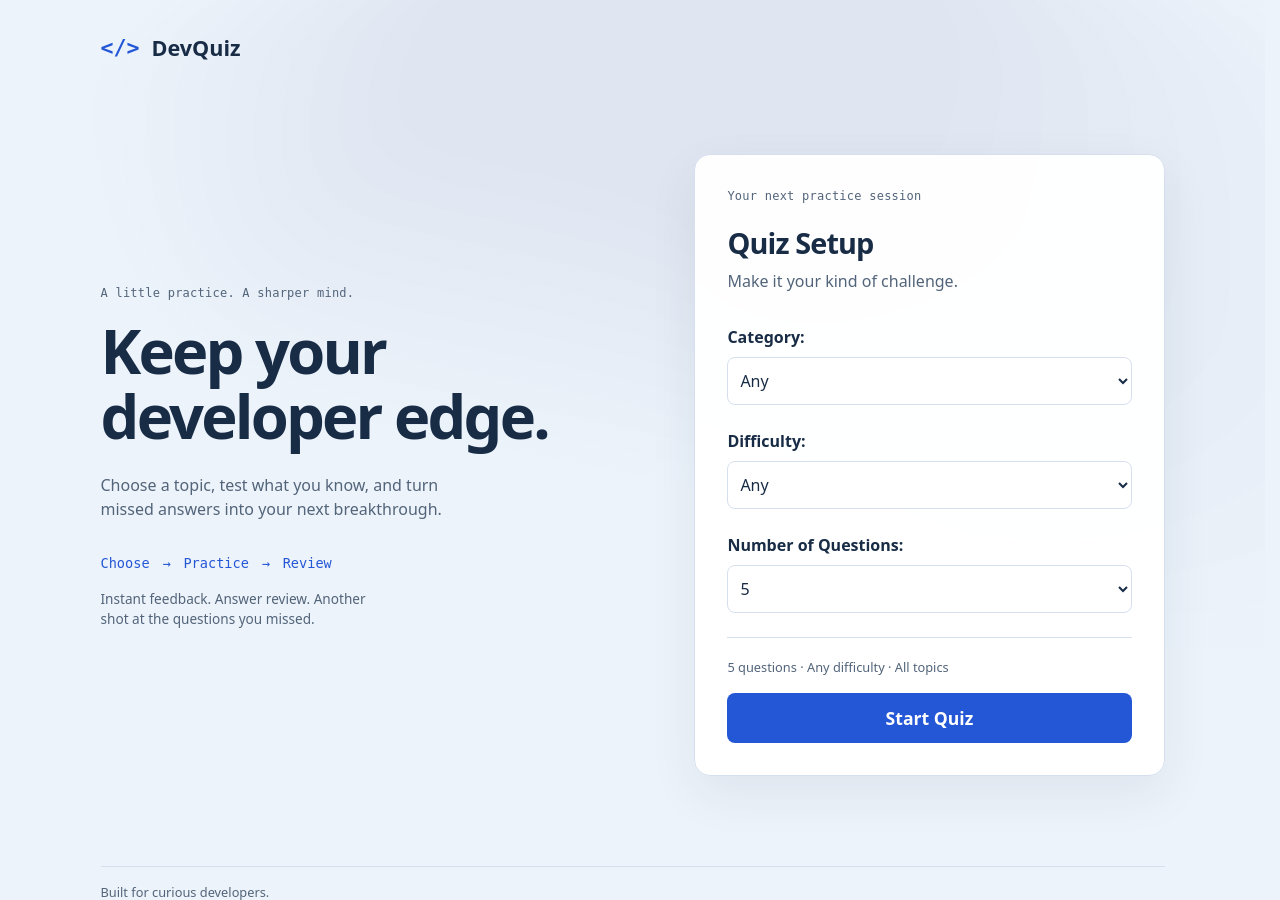
App integration test › should show an empty-state message when no questions are returned
Click the button "Start Quiz". click: (929, 718)
box: [727,693,1132,743]
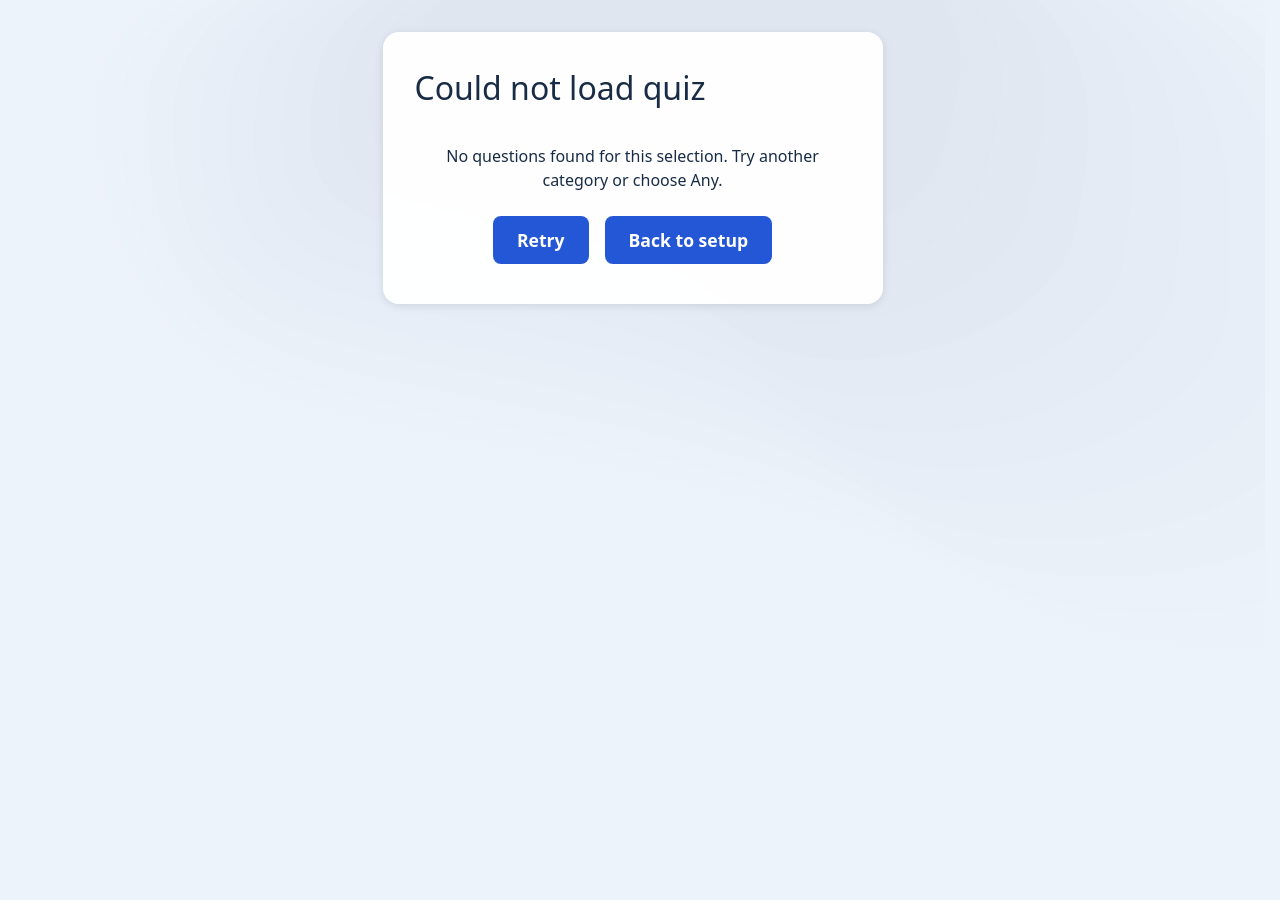
Expected: the heading "Could not load quiz" is shown, [414,66,706,109]
Expected: the text "No questions found for this selection. Try another category or choose Any." is shown, [414,144,850,192]
Expected: the button "Back to setup" is shown, [604,216,772,264]
